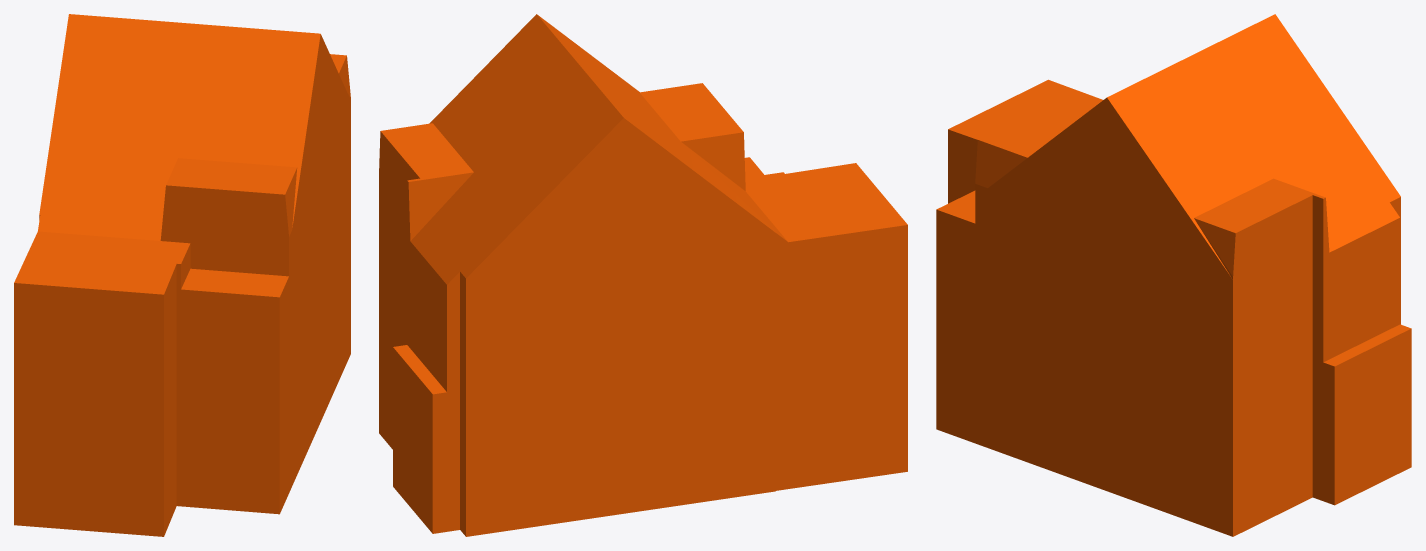
File: DEHB01ALs0000gc5.dae
3 renders of one model, left to right at view 1: azimuth 30°, elevation 25°; view 2: azimuth 150°, elevation 25°; view 3: azimuth 270°, elevation 25°, orthographic.
Bounding box in the file's own units: 18.38 × 17.43 × 15.94.
